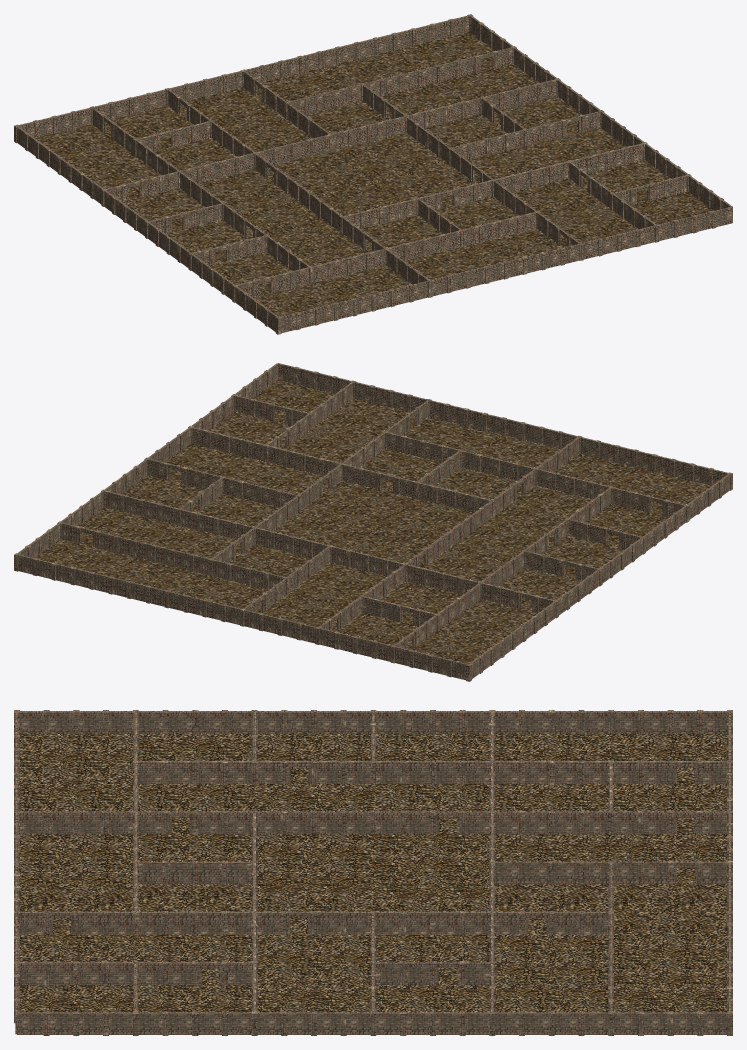
The model's file is tempChunk3.fbx.
The picture shows the model from 3 angles, top to bottom: view 1: azimuth 30°, elevation 25°; view 2: azimuth 150°, elevation 25°; view 3: azimuth 270°, elevation 25°; orthographic projection. The views are drawn at different scales.
Parts seen in each view (by area): view 1: Plane_24, Cube_34; view 2: Plane_24, Cube_34; view 3: Plane_24, Cube_34.
Boxes of the visible parts, x1,y1,x2,y2 form: Plane_24: (35,32,713,316); Cube_34: (14,14,732,334); Plane_24: (35,380,711,663); Cube_34: (14,363,732,681); Plane_24: (20,733,726,1012); Cube_34: (14,710,732,1035).
Bounding box in the file's own units: 242 × 8.13 × 242.
